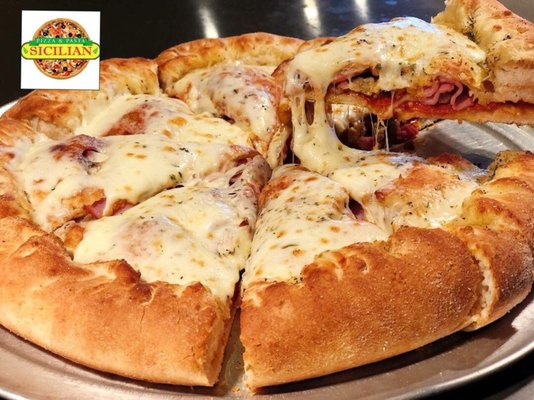soup: (284, 0, 534, 180)
